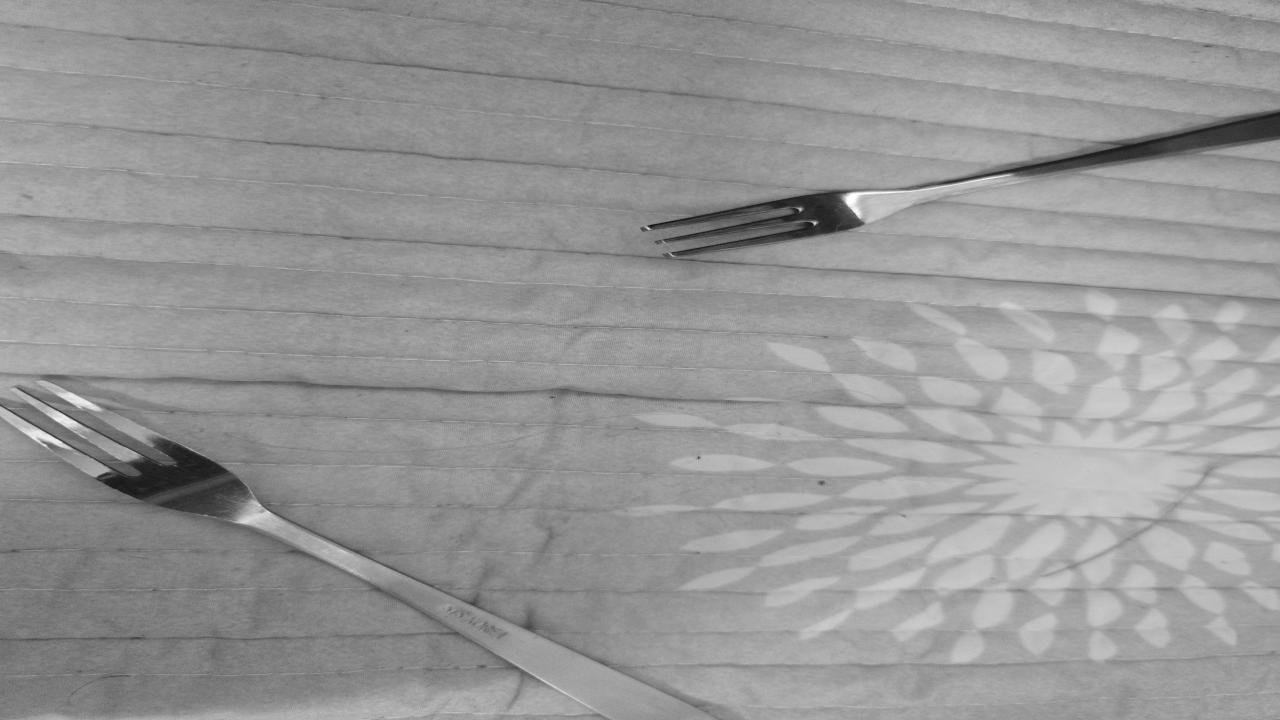fork: (0, 379, 733, 720), (642, 92, 1270, 260)
